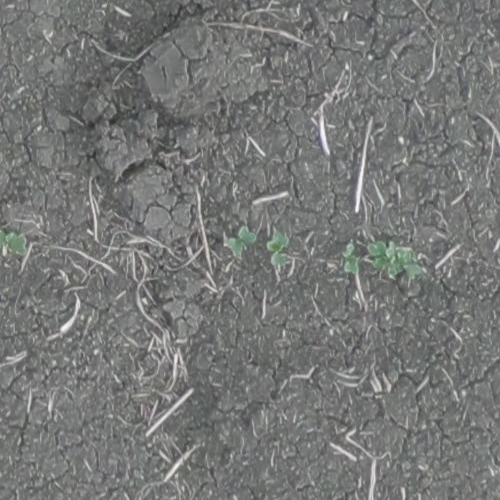plant: (266, 228, 295, 275), (224, 226, 257, 260), (0, 229, 32, 260), (342, 241, 366, 276), (368, 238, 389, 272)
